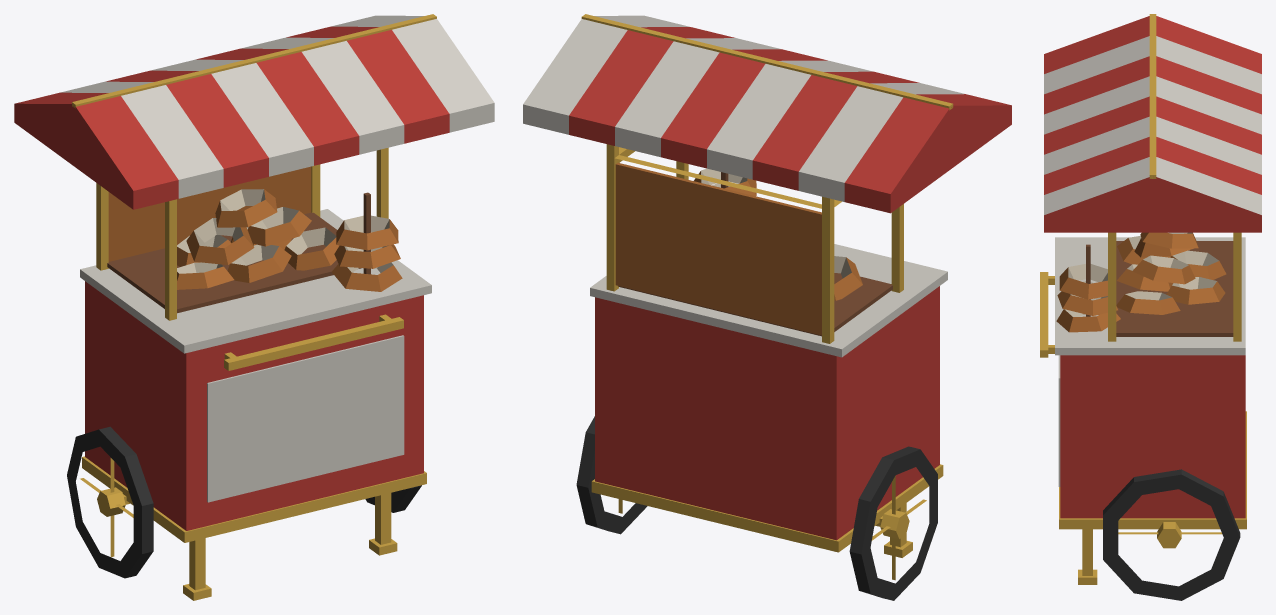
The model's file is simit_arabasi.glb.
The picture shows the model from 3 angles, left to right: view 1: azimuth 30°, elevation 25°; view 2: azimuth 150°, elevation 25°; view 3: azimuth 270°, elevation 25°; orthographic projection. The views are drawn at different scales.
Parts seen in each view (by area): view 1: simit_arabasi; view 2: simit_arabasi; view 3: simit_arabasi.
Part boxes in pixels (box(x1,y1,x2,y2)): simit_arabasi: box(14, 14, 494, 600); simit_arabasi: box(523, 14, 1011, 600); simit_arabasi: box(1040, 14, 1261, 600).
Bounding box in the file's own units: 1.4 × 1.8 × 0.815.
